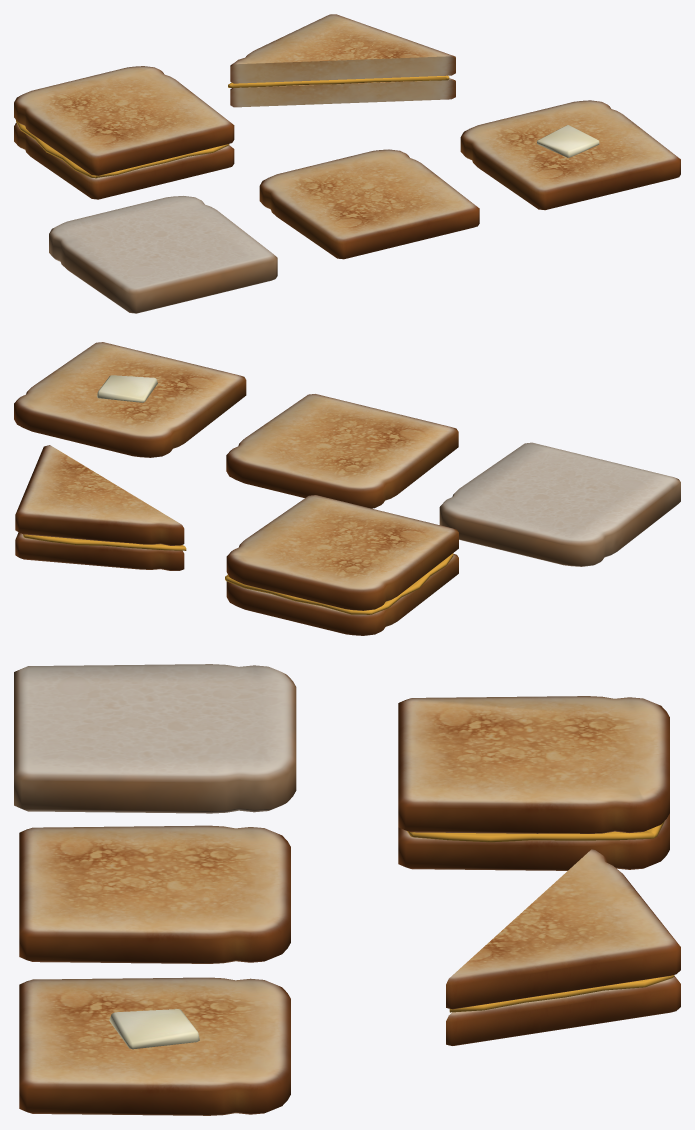
3 renders of one model, top to bottom at view 1: azimuth 30°, elevation 25°; view 2: azimuth 150°, elevation 25°; view 3: azimuth 270°, elevation 25°, orthographic. The views are drawn at different scales.
Visible parts, largest first — view 1: Bread_Slice, Bread_ButterToast, Bread_Toasted, Bread_HalfB001, Bread_HalfB, Bread_HalfA, GrilledCheese_HalfB001, GrilledCheese_HalfB, GrilledCheese_HalfA; view 2: Bread_Slice, Bread_ButterToast, Bread_Toasted, Bread_HalfA, Bread_HalfB001, Bread_HalfB, GrilledCheese_HalfA, GrilledCheese_HalfB001; view 3: Bread_Slice, Bread_ButterToast, Bread_Toasted, Bread_HalfB, Bread_HalfB001, Bread_HalfA, GrilledCheese_HalfB, GrilledCheese_HalfB001.
Part boxes in pixels (bbox=[...]): Bread_Slice: bbox=[49, 196, 277, 313]; Bread_ButterToast: bbox=[460, 100, 680, 210]; Bread_Toasted: bbox=[259, 149, 479, 259]; Bread_HalfB001: bbox=[230, 14, 455, 107]; Bread_HalfB: bbox=[94, 67, 234, 199]; Bread_HalfA: bbox=[14, 66, 151, 199]; GrilledCheese_HalfB001: bbox=[228, 75, 449, 87]; GrilledCheese_HalfB: bbox=[96, 144, 229, 177]; GrilledCheese_HalfA: bbox=[16, 120, 96, 178]; Bread_Slice: bbox=[439, 442, 680, 566]; Bread_ButterToast: bbox=[14, 342, 246, 457]; Bread_Toasted: bbox=[226, 394, 458, 508]; Bread_HalfA: bbox=[227, 529, 458, 635]; Bread_HalfB001: bbox=[15, 445, 184, 570]; Bread_HalfB: bbox=[226, 495, 457, 597]; GrilledCheese_HalfA: bbox=[225, 553, 453, 614]; GrilledCheese_HalfB001: bbox=[23, 534, 186, 550]; Bread_Slice: bbox=[14, 664, 296, 813]; Bread_ButterToast: bbox=[19, 977, 290, 1115]; Bread_Toasted: bbox=[19, 825, 290, 963]; Bread_HalfB: bbox=[398, 700, 650, 870]; Bread_HalfB001: bbox=[446, 849, 680, 1045]; Bread_HalfA: bbox=[404, 696, 669, 865]; GrilledCheese_HalfB: bbox=[407, 831, 653, 842]; GrilledCheese_HalfB001: bbox=[449, 975, 674, 1012].
Bounding box in the file's own units: 1.28 × 0.0989 × 0.8545.
2 materials, 1 textured.
